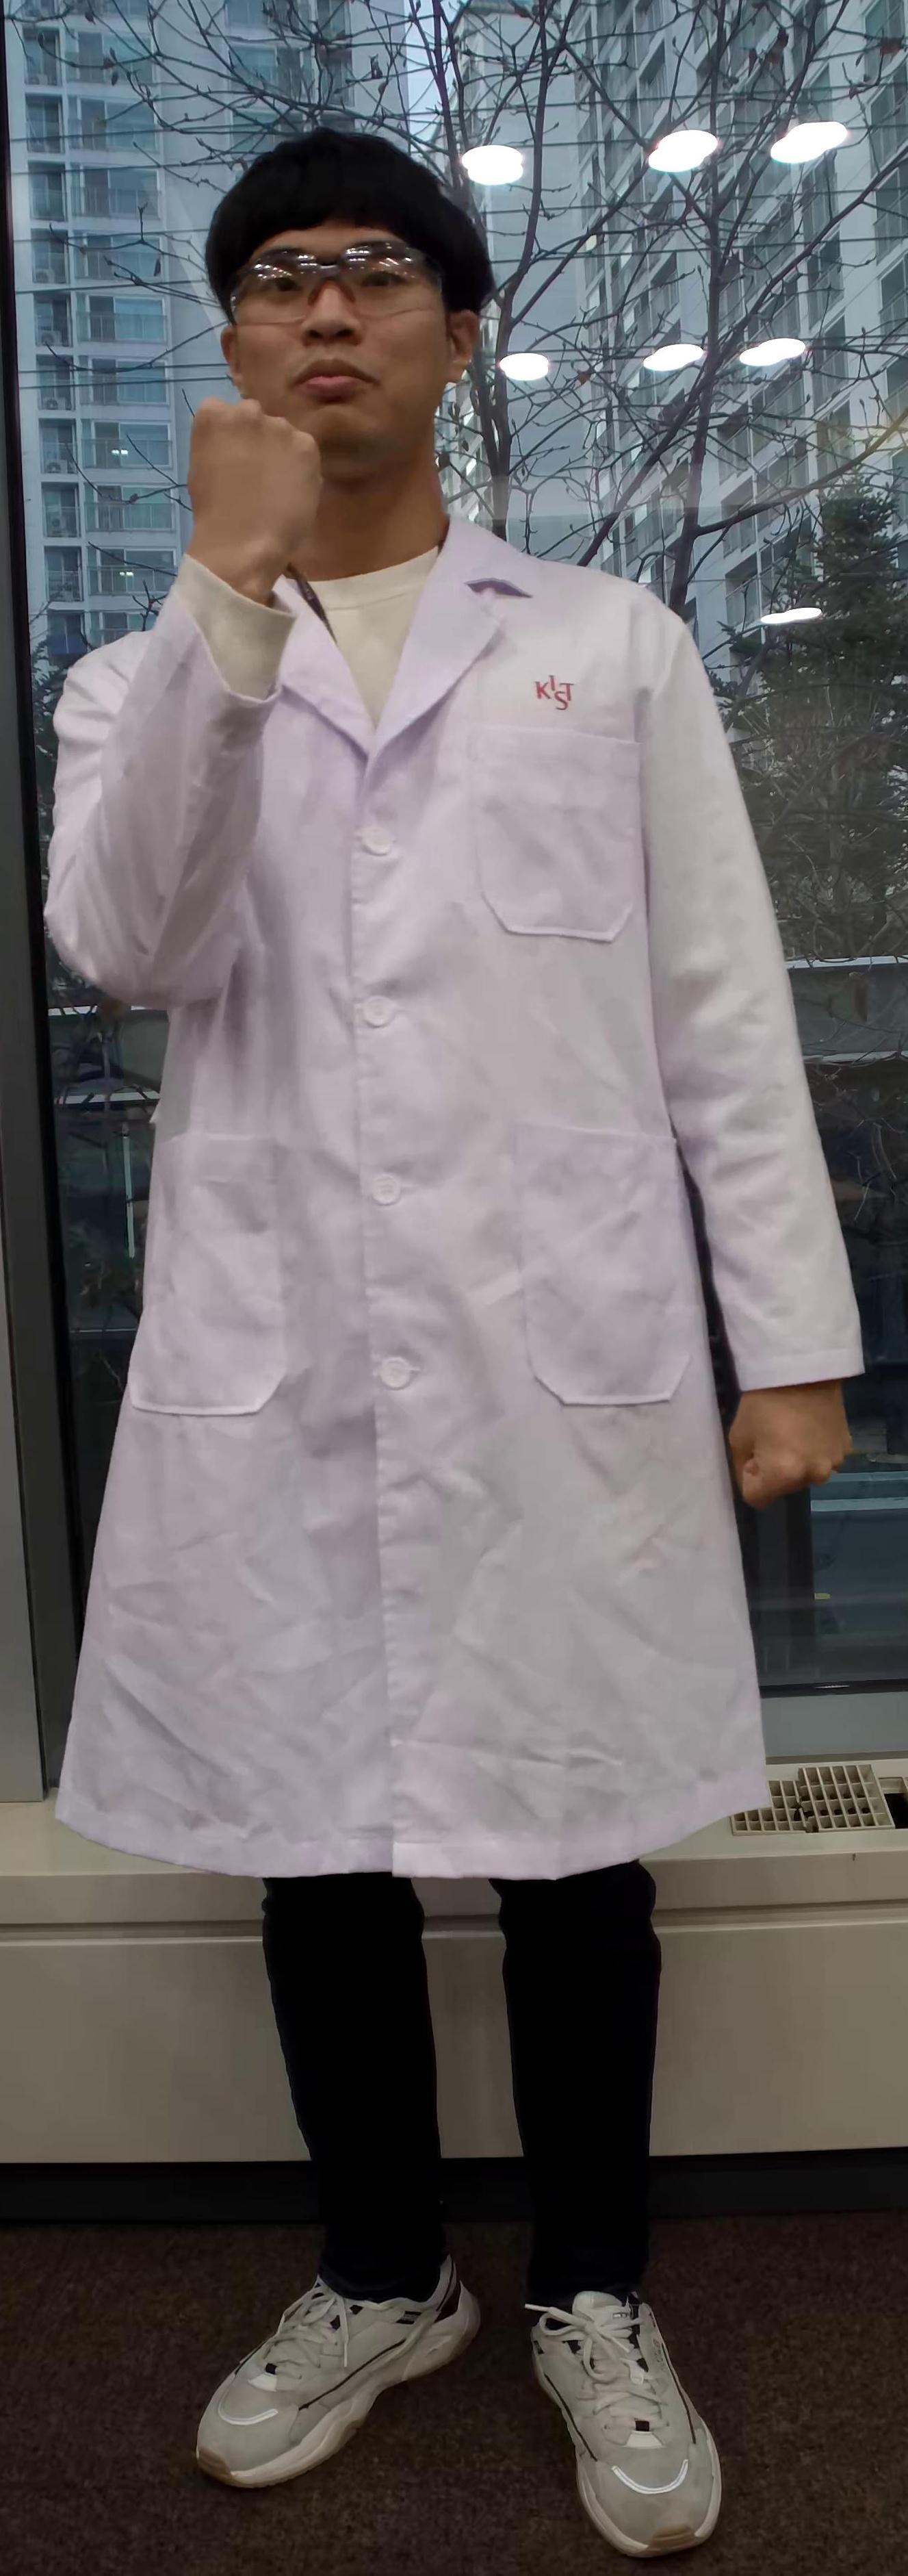lab_coat: (77, 624, 757, 1856)
